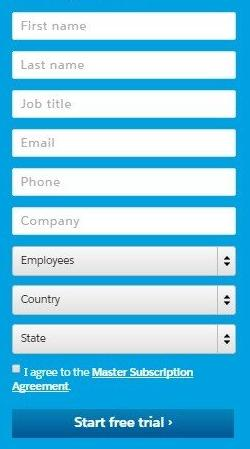button: (10, 407, 236, 438)
checkbox: (11, 364, 25, 373)
checkbox_with_label: (8, 362, 197, 380)
field: (11, 245, 237, 279), (12, 323, 236, 357), (12, 284, 236, 317), (10, 10, 237, 42), (10, 205, 237, 237), (11, 166, 238, 198), (9, 128, 236, 160), (9, 88, 236, 120), (10, 50, 237, 82)
